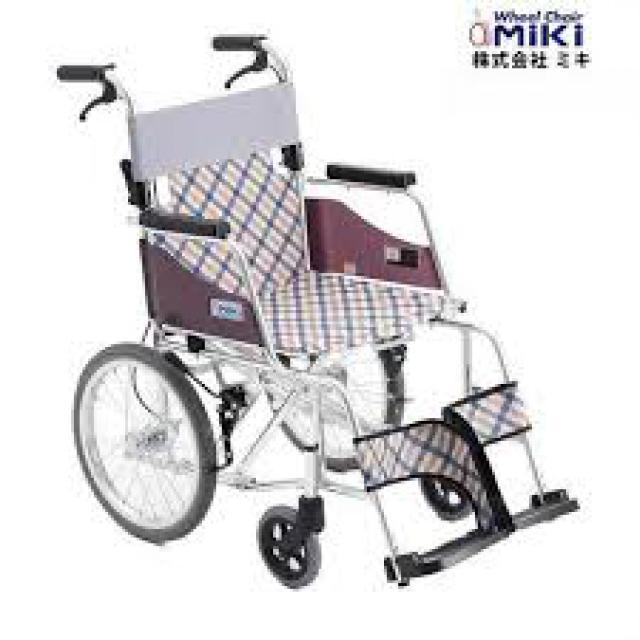wheelchair: (51, 26, 583, 592)
